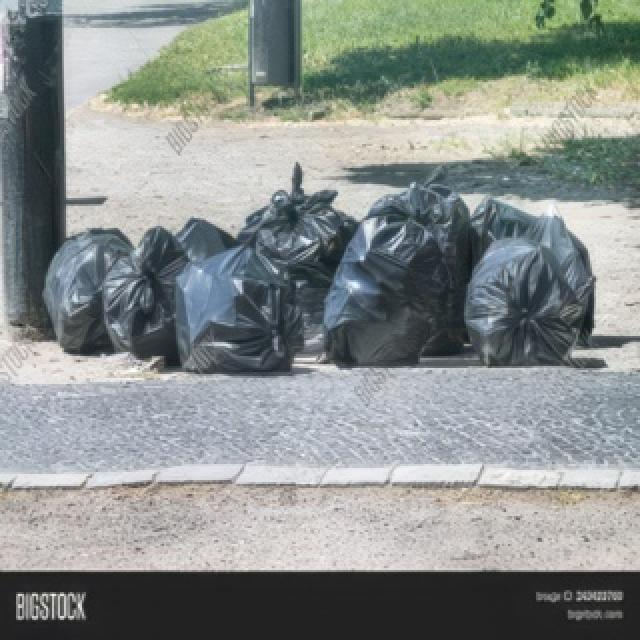Trashbag: (330, 211, 435, 379), (8, 212, 114, 349), (448, 249, 548, 383), (177, 257, 286, 368), (111, 258, 178, 358), (253, 187, 337, 260), (178, 216, 224, 255)
